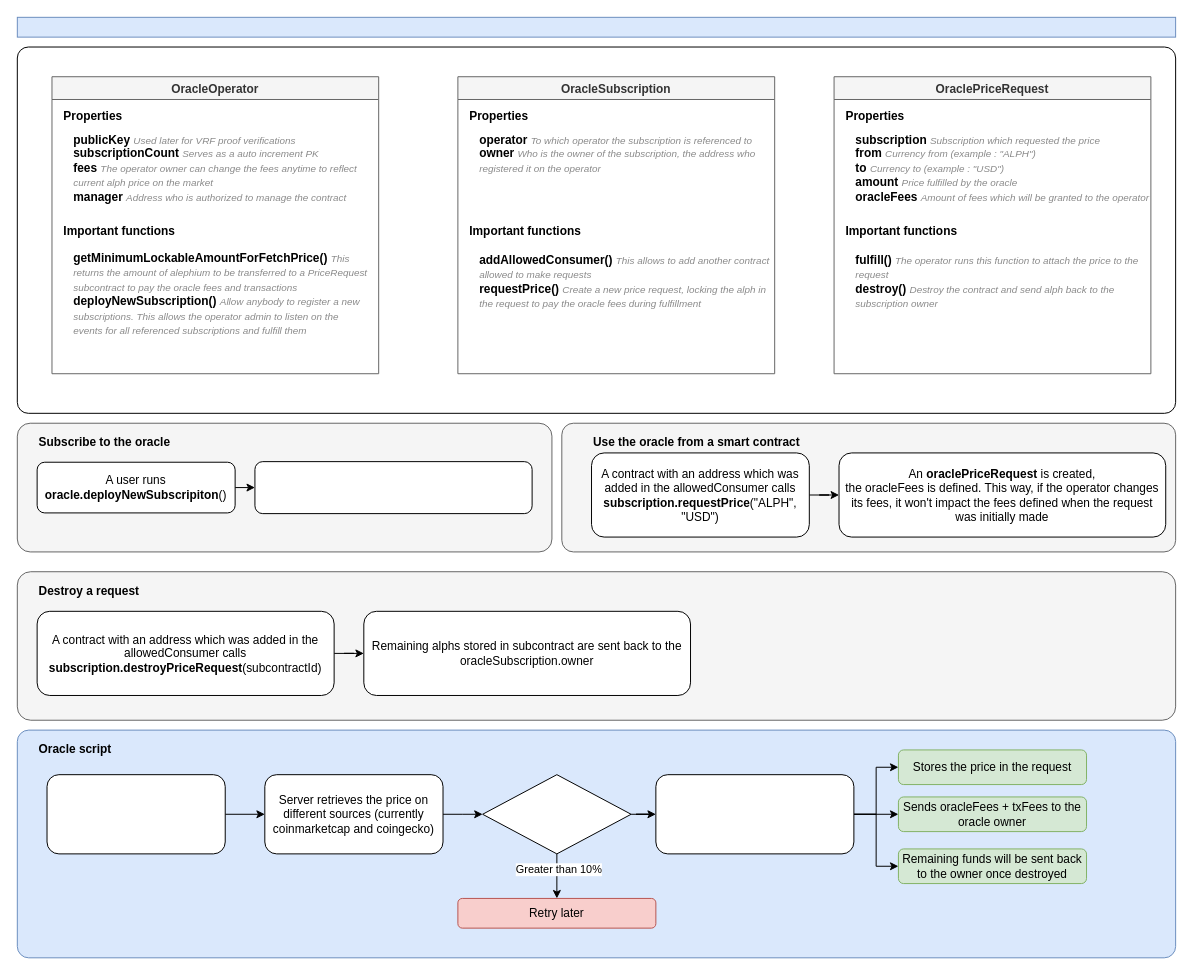
The diagram is 1193 pixels wide and 975 high, and some of its shapes have lost their labels. The centre of each missing label's shape, as x and y in pixels:
"Check discrepancies between sources" goes at pixel 556 814.
"Oracle server listen OracleOperator.PriceRequested events" goes at pixel 135 814.
"Price Fetch workflows" goes at pixel 596 26.
"Run OraclePriceRequest.fulfill ()" goes at pixel 754 814.
"Run subscription.addAllowedConsumer (address)" goes at pixel 393 487.
